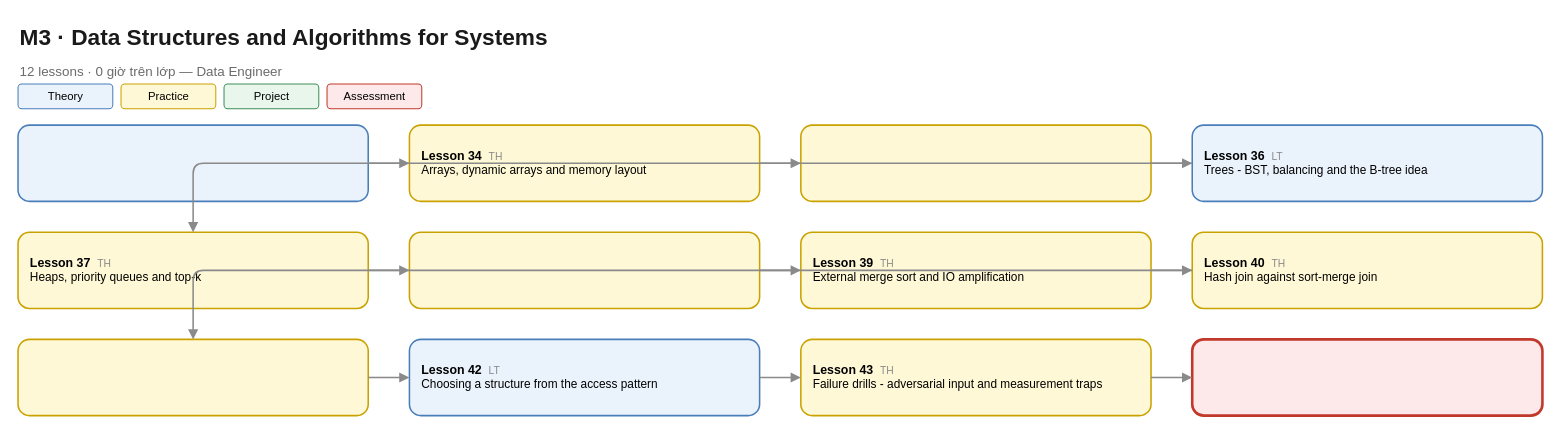
The diagram is 1561 pixels wide and 435 high, and some of its shapes have lost their labels. The shapes that lost their labels are listed below. From the top down, each one's centre as x and y in pixels, then its label:
At point 193,163: "Lesson 33 LT Complexity, constant factors and benchmark bias".
At point 975,163: "Lesson 35 TH Hash tables - collisions, load factor and resize".
At point 584,270: "Lesson 38 TH Graphs, topological order and dependency scheduling".
At point 193,377: "Lesson 41 TH Bloom filters and probabilistic membership".
At point 1366,377: "Lesson 44 KT Gate 1 - explain a structure choice and prove it by measurement".
